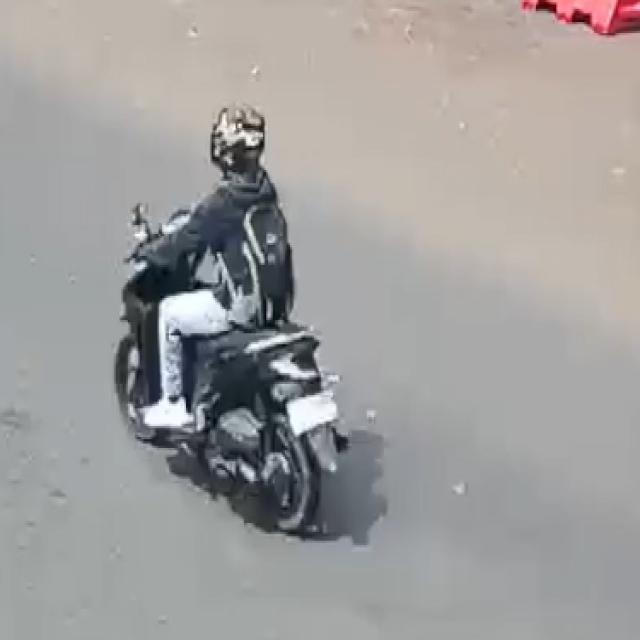helm: (202, 93, 280, 182)
motor: (111, 88, 354, 544)
spion: (125, 189, 162, 254)
